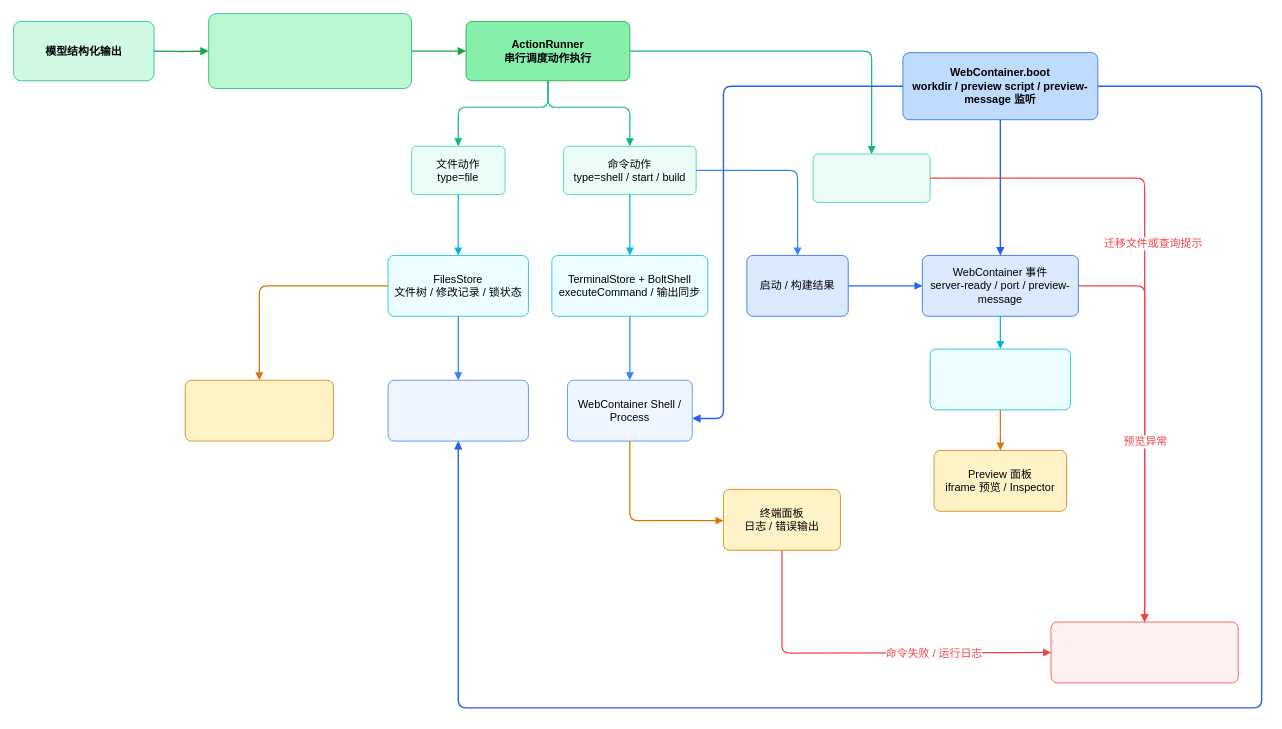
Some shapes in this 1282 by 729 pixel diagram are drawn without their labels. Here are the shapes that lost their labels. From the top down, the centre of each, then its label:
[309,51]: WorkbenchStore artifact 注册 / 全局执行队列 / 当前视图状态
[871,177]: Supabase 动作 migration / query
[1000,379]: PreviewsStore 端口发现 / BroadcastChannel / refresh
[258,410]: EditorStore + EditorPanel 文件树 / 编辑器 / DiffView
[457,410]: WebContainer.fs mkdir / writeFile / readFile
[1144,652]: Alert 回流 ActionAlert / SupabaseAlert / DeployAlert
